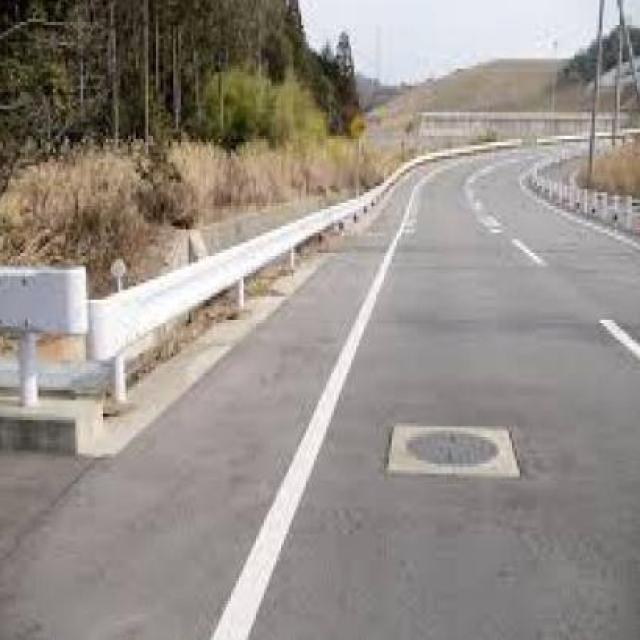Guard rail: (86, 123, 526, 430), (0, 252, 87, 410)
